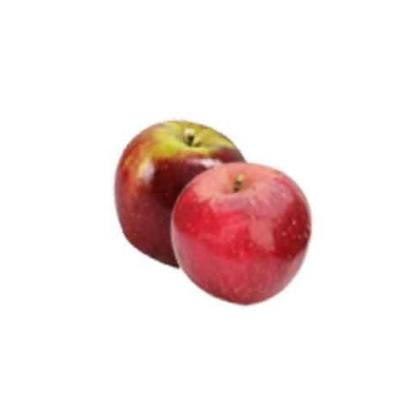apple: (115, 119, 253, 272), (171, 162, 313, 310)
